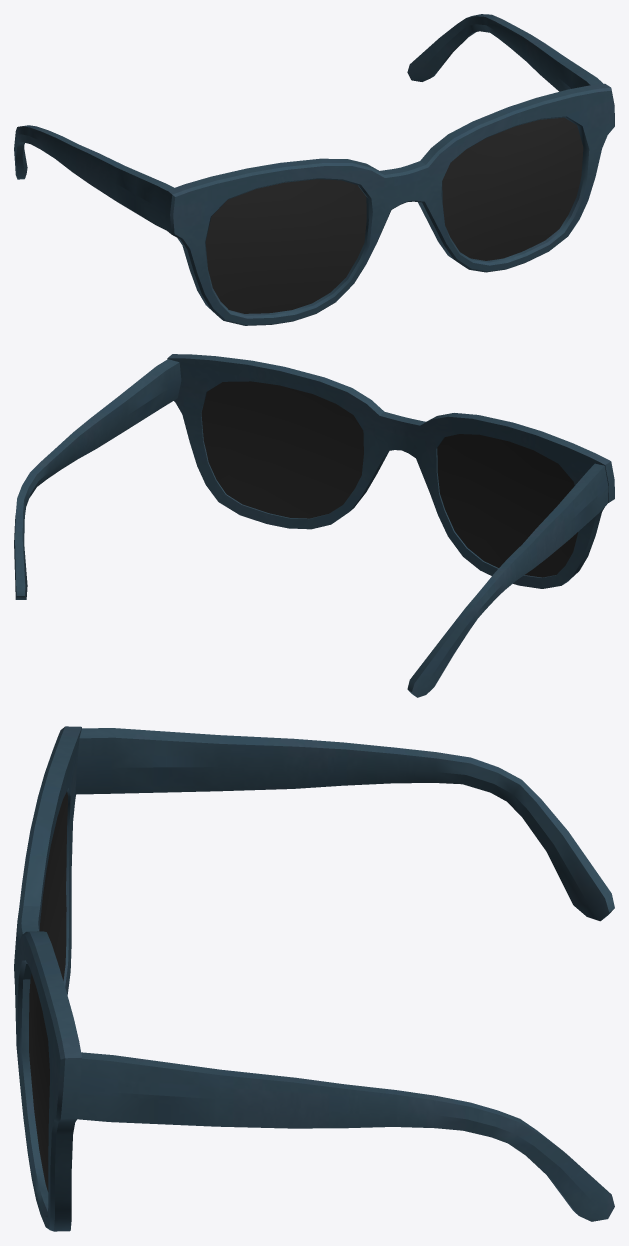
3 renders of one model, top to bottom at view 1: azimuth 30°, elevation 25°; view 2: azimuth 150°, elevation 25°; view 3: azimuth 270°, elevation 25°, orthographic. The views are drawn at different scales.
Visible parts, largest first — view 1: Glass3; view 2: Glass3; view 3: Glass3.
Boxes of the visible parts, bbox=[...] form: Glass3: bbox=[14, 14, 614, 325]; Glass3: bbox=[14, 354, 614, 697]; Glass3: bbox=[14, 726, 614, 1231].
Bounding box in the file's own units: 49.75 × 15.96 × 35.89.
2 materials, 1 textured.
